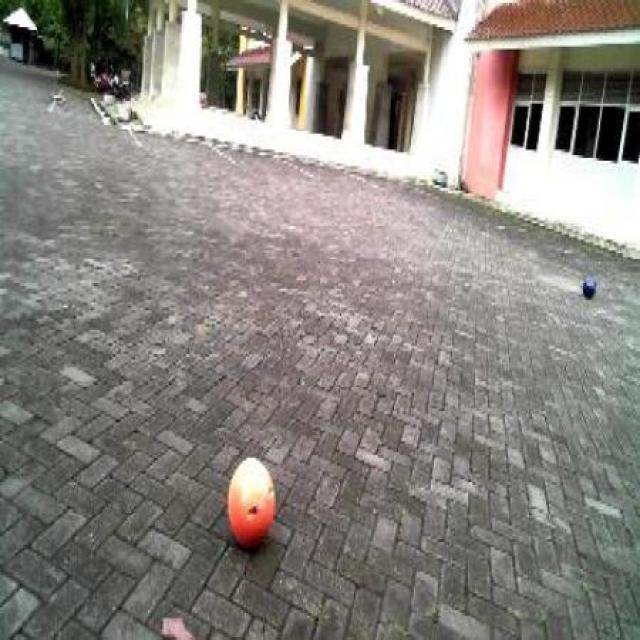buoy: (225, 445, 280, 558), (581, 272, 598, 302)
